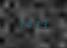three: (32, 19, 38, 28), (39, 20, 45, 28)
two: (18, 19, 24, 27)
zero: (25, 19, 31, 27)
